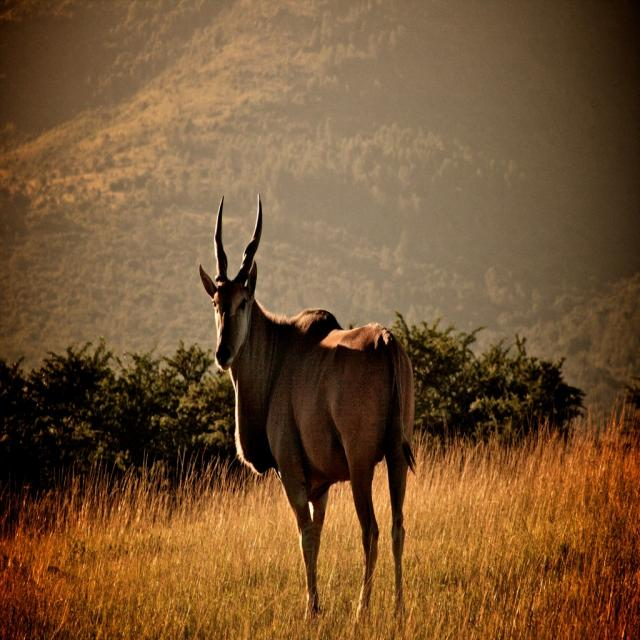Deer: (199, 192, 418, 623)
